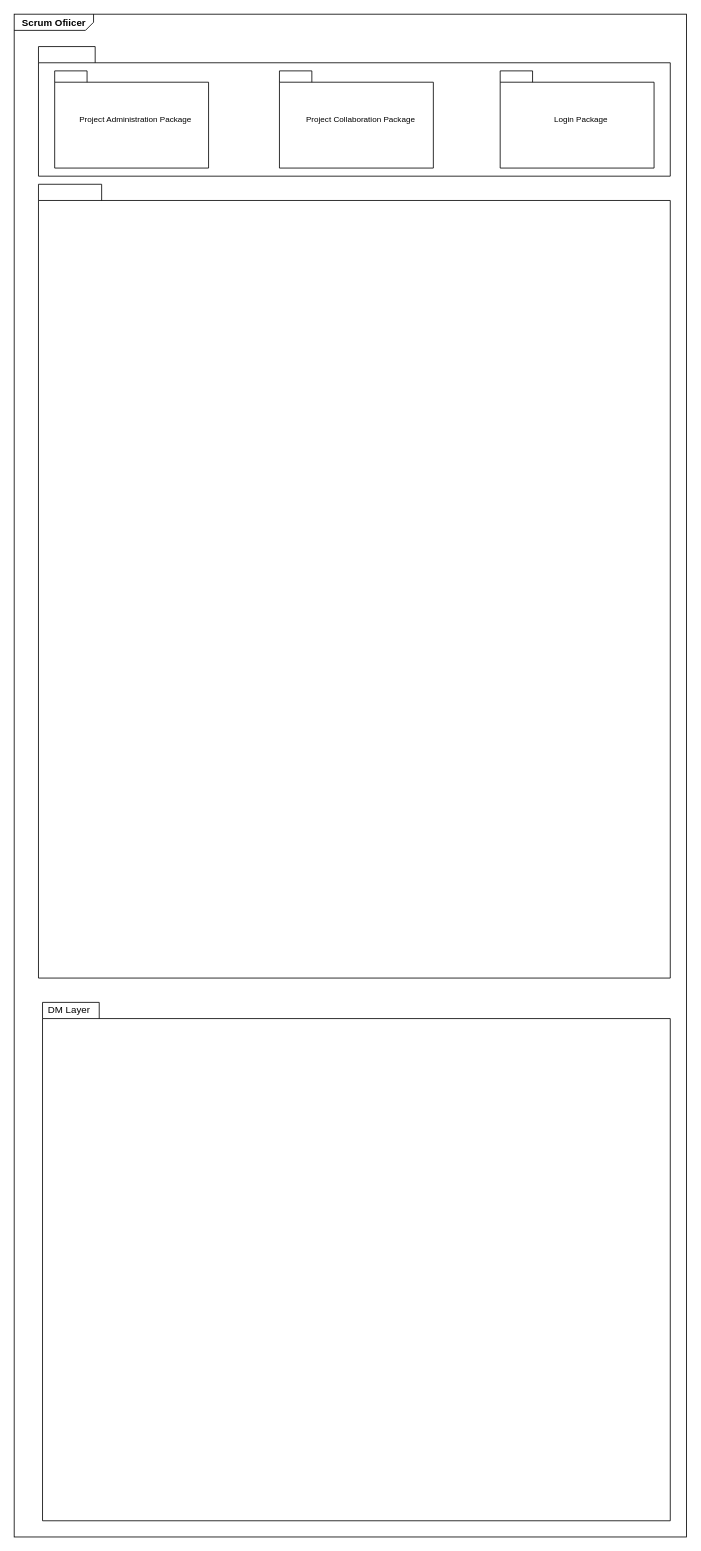
This 701x1551 diagram has some shape labels left out. The box of each missing label's shape, as (x1, y1, x2, y2) in pixels:
HCI Layer: (38, 46, 670, 176)
PD Layer: (38, 183, 670, 978)
